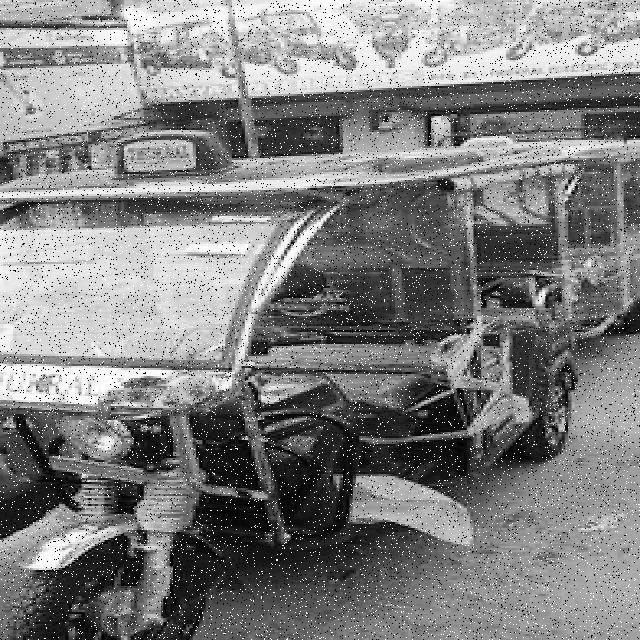Toto: (0, 152, 581, 640)
